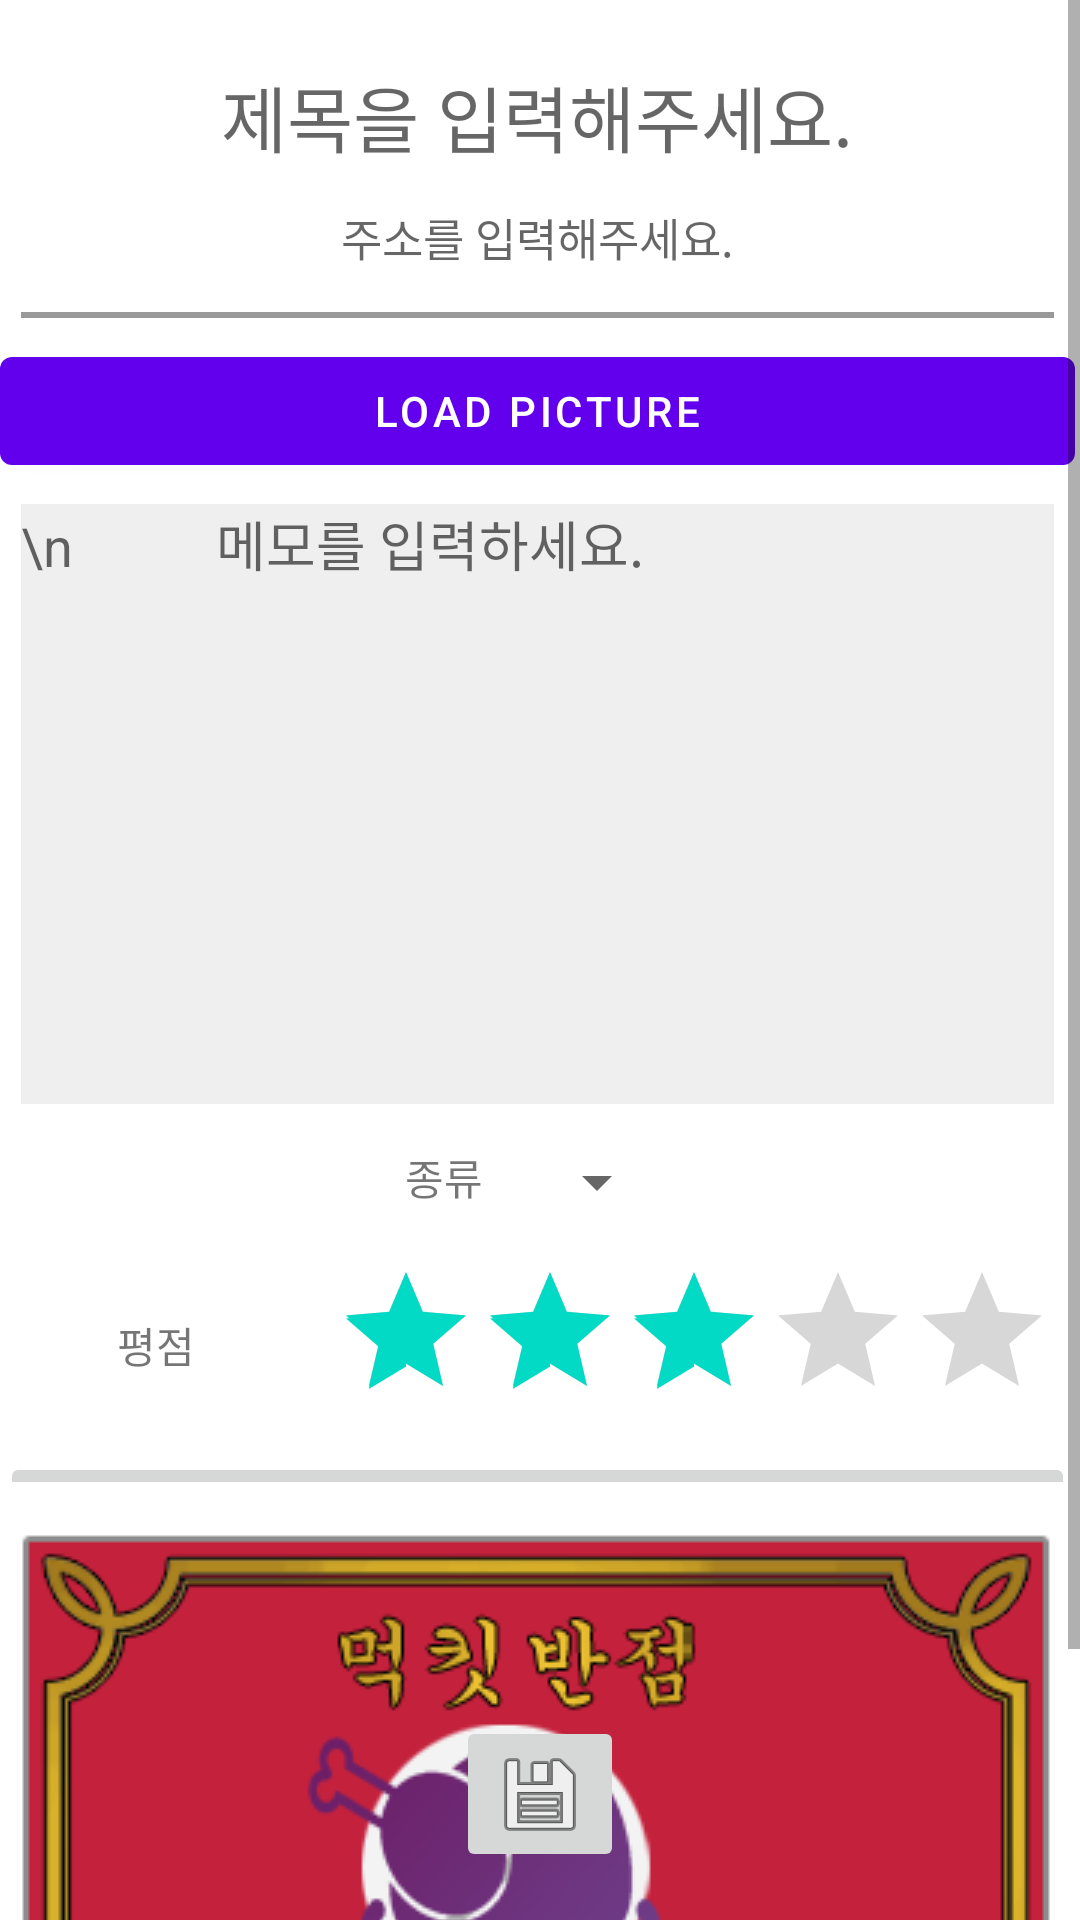

Where to tap for icons on this 1080px×1920px app screen, as point (x, y):
save: point (540, 1794)
